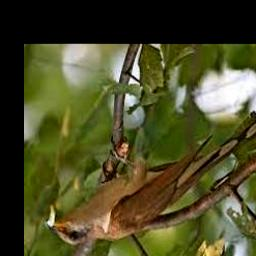Cuckoo: (45, 105, 256, 245)
